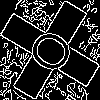O: (25, 25, 85, 83)
